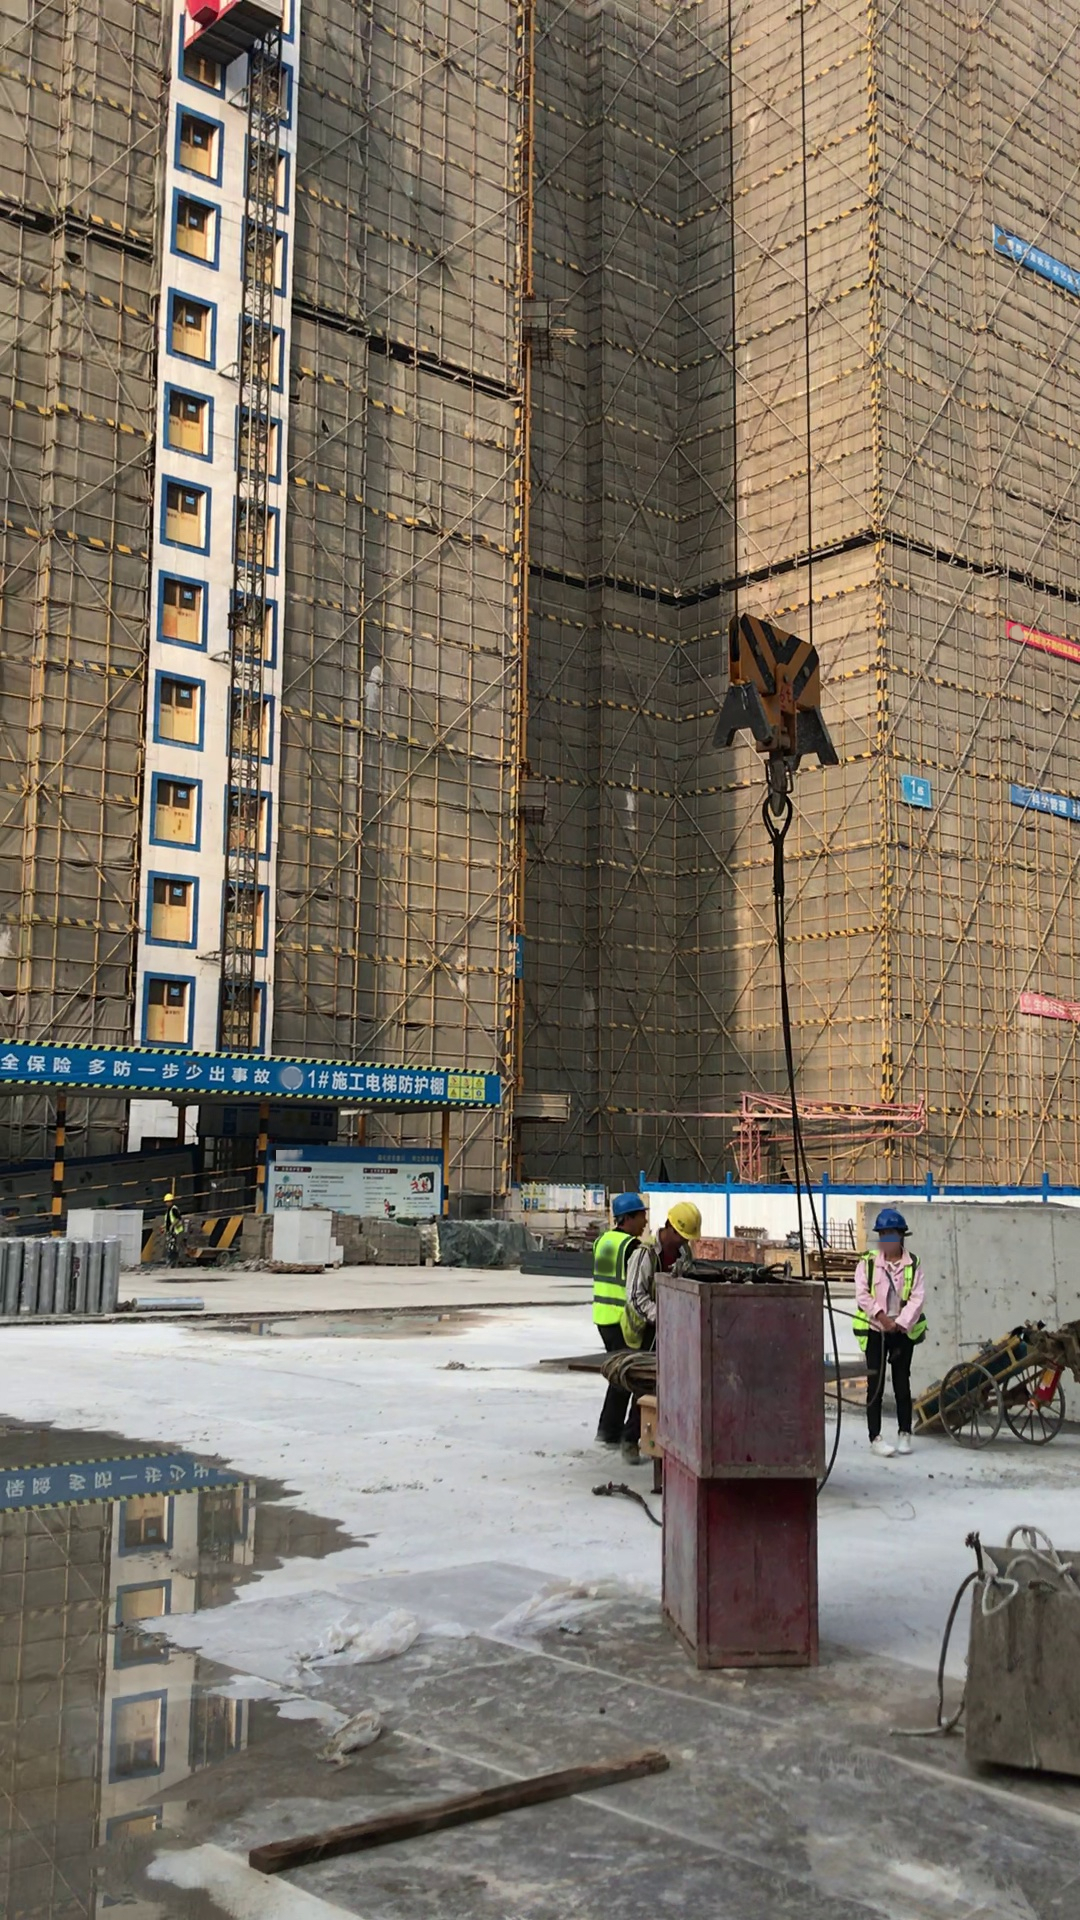brick: (62, 1199, 148, 1268), (268, 1205, 345, 1267)
ebox: (621, 1392, 665, 1466)
fence: (1, 1163, 265, 1238)
handcart: (911, 1318, 1080, 1455)
helmet: (666, 1196, 711, 1242), (870, 1205, 922, 1237), (606, 1188, 653, 1216), (161, 1187, 179, 1202)
hook: (628, 558, 934, 911)
hopper: (922, 1514, 1080, 1782)
person: (849, 1202, 936, 1464), (621, 1198, 699, 1469), (593, 1190, 649, 1455), (158, 1190, 193, 1272)
slogan: (1, 1020, 504, 1124), (262, 1140, 444, 1219), (983, 219, 1080, 300), (1001, 615, 1080, 665), (513, 1178, 607, 1218), (1006, 779, 1080, 827), (1012, 988, 1080, 1033), (897, 770, 935, 811)
vest: (851, 1249, 932, 1353), (620, 1235, 687, 1352), (590, 1228, 630, 1325), (162, 1206, 186, 1232)
wood: (332, 1208, 423, 1270), (239, 1210, 273, 1263)
